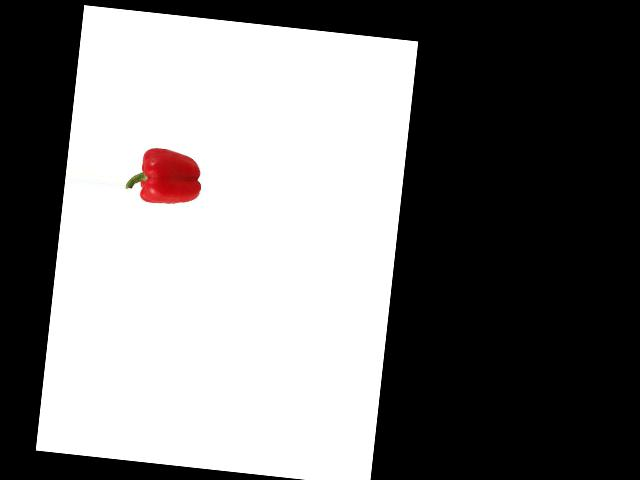bell_pepper: (124, 137, 206, 210)
